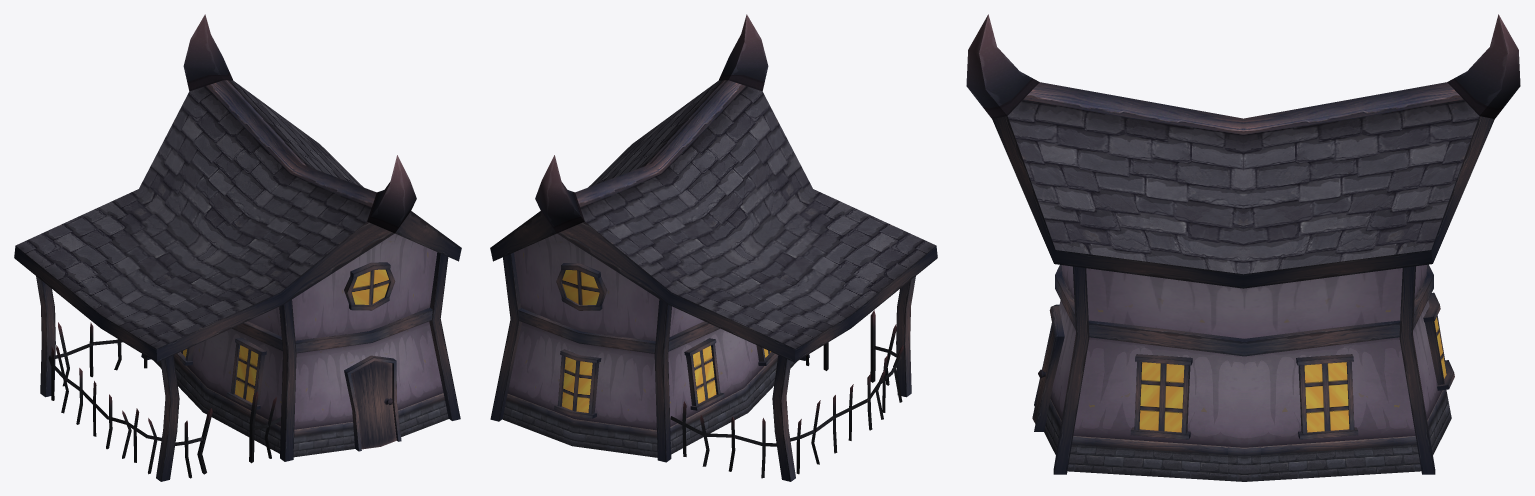
File: House_C.fbx
3 renders of one model, left to right at view 1: azimuth 30°, elevation 25°; view 2: azimuth 150°, elevation 25°; view 3: azimuth 270°, elevation 25°, orthographic. The views are drawn at different scales.
Parts seen in each view (by area): view 1: House_C; view 2: House_C; view 3: House_C.
Boxes of the visible parts, x1,y1,x2,y2 form: House_C: (14, 14, 461, 481); House_C: (490, 14, 937, 481); House_C: (966, 14, 1520, 481).
Bounding box in the file's own units: 256 × 238 × 295.
1 material, 1 textured.
